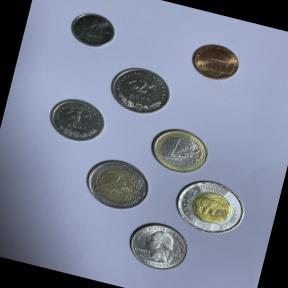1 Euro: (144, 121, 215, 180)
2 Euro: (78, 151, 156, 217)
Canda-10cent-: (66, 6, 120, 53)
Canda-2Dollar-: (166, 174, 254, 242)
Croatia-2Kune-: (102, 59, 178, 124)
US-1cent-: (184, 36, 246, 89)
US-25cent-: (119, 215, 197, 281)
